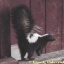skunk: (12, 5, 56, 59)
